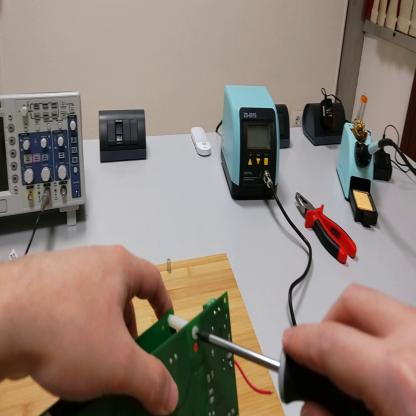electric screwdriver battery: (375, 148, 393, 183)
hand: (20, 242, 180, 414), (285, 284, 416, 415)
low voltage board: (42, 294, 275, 415)
oscilloscope: (2, 95, 87, 227)
screwdriver-: (199, 330, 375, 416)
socket: (302, 101, 346, 145), (277, 103, 289, 149)
welder base: (335, 118, 379, 230)
welder probe tip: (360, 137, 385, 165)
welder station: (223, 86, 280, 201)
working area: (2, 251, 285, 413)
